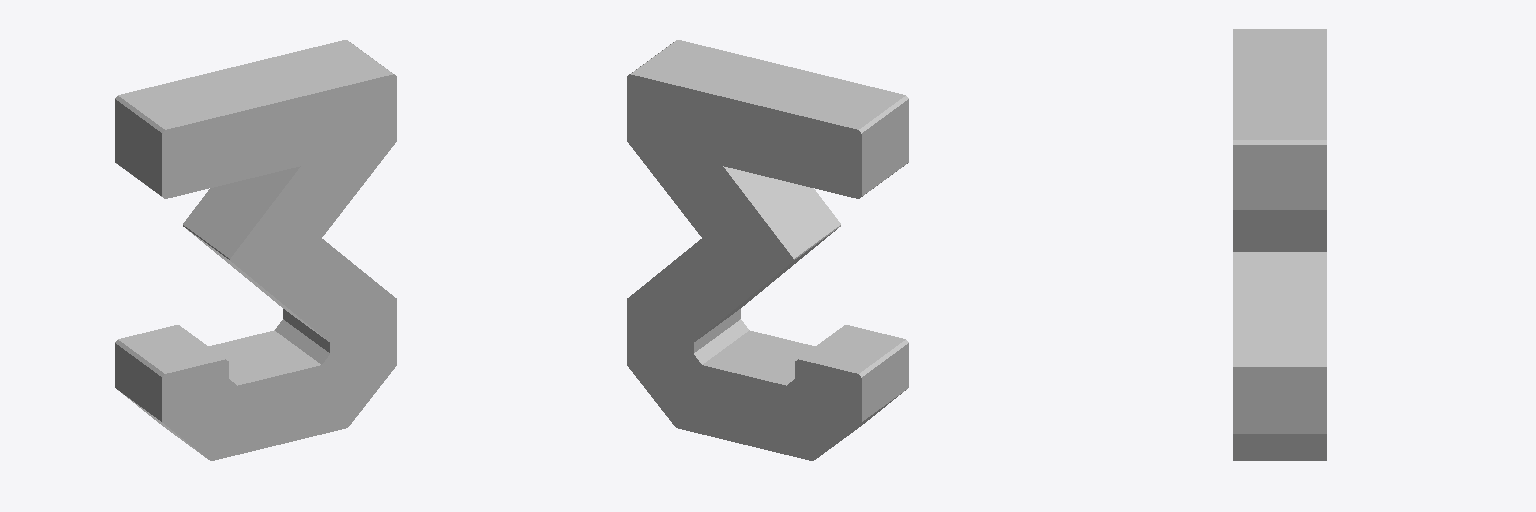
The picture shows the model from 3 angles: view 1: azimuth 30°, elevation 25°; view 2: azimuth 150°, elevation 25°; view 3: azimuth 270°, elevation 25°; orthographic projection.
Parts seen in each view (by area): view 1: text: ABCDEFGHIJKLMNOPQRSTUVWXYZ[number redacted]; view 2: text: ABCDEFGHIJKLMNOPQRSTUVWXYZ[number redacted]; view 3: text: ABCDEFGHIJKLMNOPQRSTUVWXYZ[number redacted].
Boxes of the visible parts, x1=… form: text: ABCDEFGHIJKLMNOPQRSTUVWXYZ[number redacted]: x1=115, y1=40, x2=396, y2=460; text: ABCDEFGHIJKLMNOPQRSTUVWXYZ[number redacted]: x1=627, y1=40, x2=908, y2=460; text: ABCDEFGHIJKLMNOPQRSTUVWXYZ[number redacted]: x1=1233, y1=29, x2=1326, y2=460.
Bounding box in the file's own units: 71.35 × 99.57 × 25.